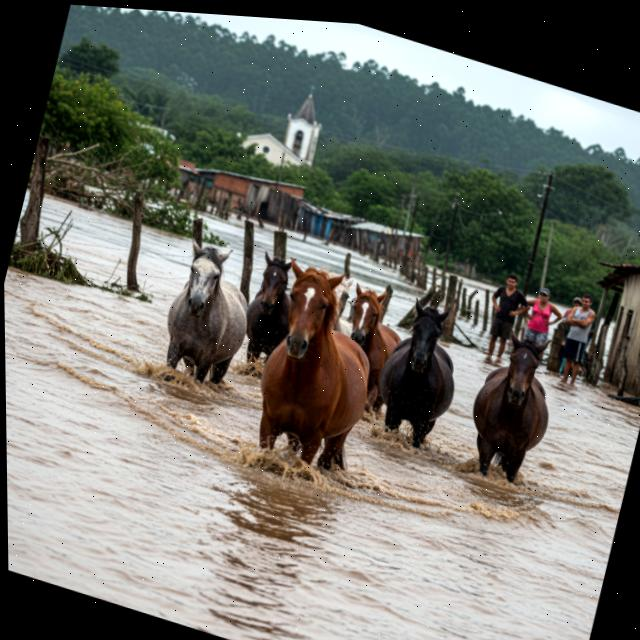civilian: (474, 266, 536, 374), (550, 286, 606, 399), (509, 279, 572, 372)
horse: (235, 244, 405, 490), (361, 284, 480, 467), (455, 319, 573, 501), (151, 227, 273, 399), (324, 281, 418, 428), (226, 240, 307, 386), (310, 264, 360, 339)
